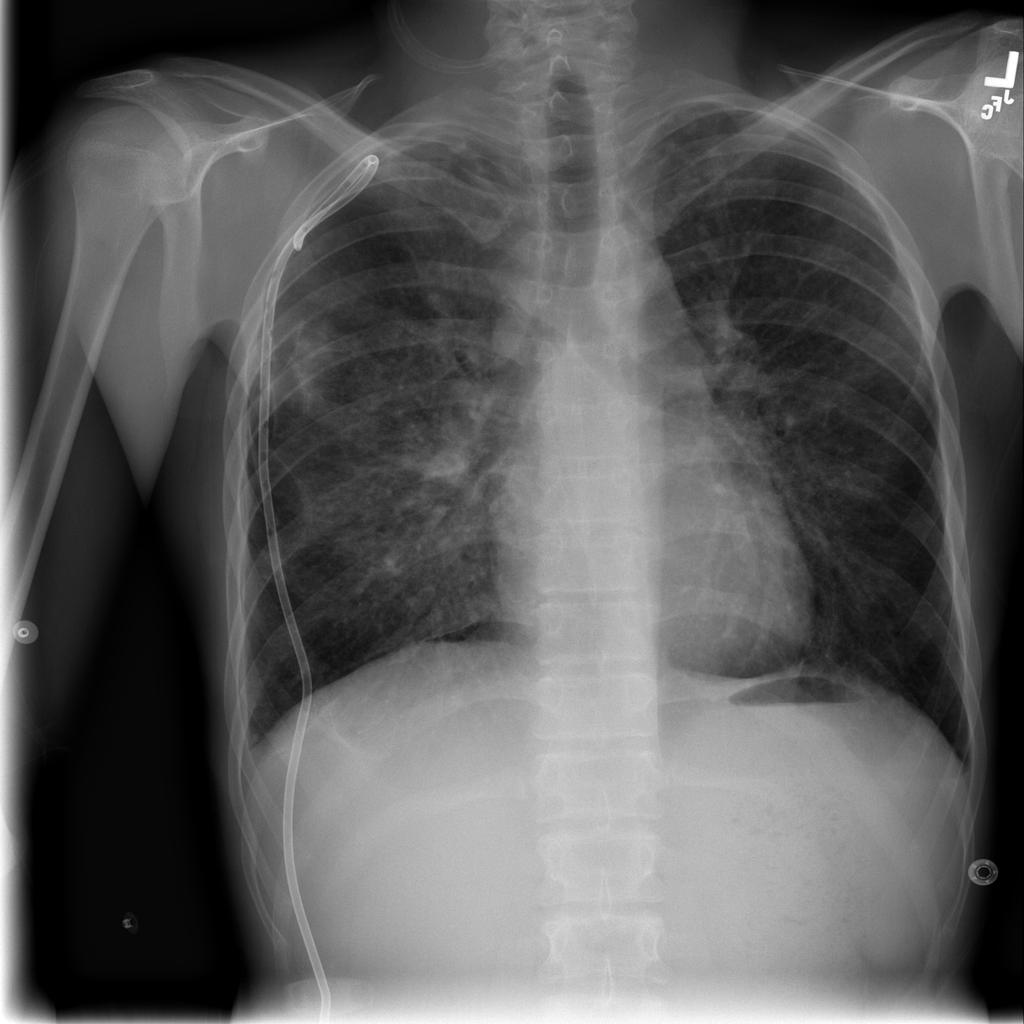nodule: (274, 306, 361, 411)
